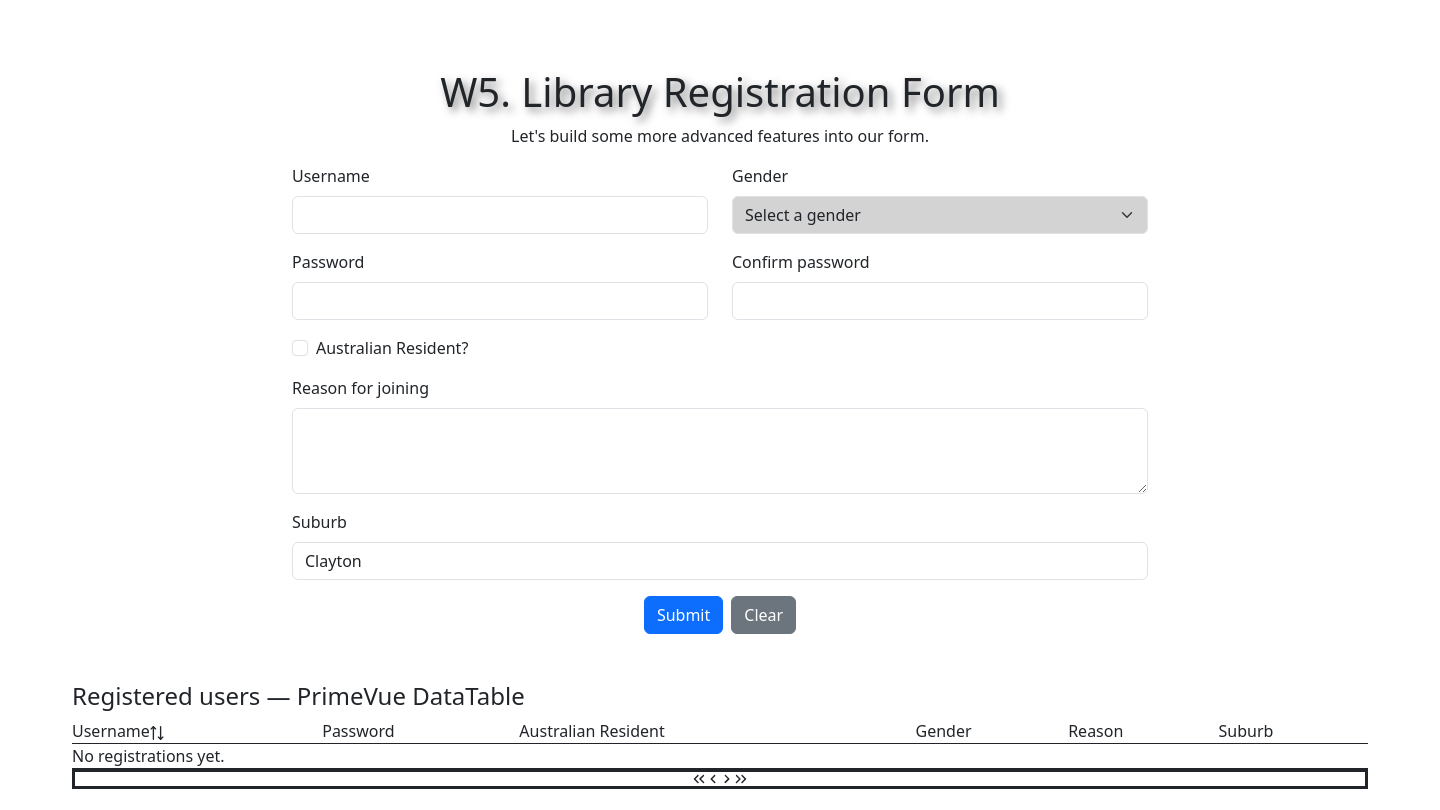
Week 5 registration behavior › adds a sanitized independent record to the table and resets form feedback
Type "Dinuo" into the field with id "username".
click(500, 215); type("Dinuo")  # box x1=292 y1=196 x2=708 y2=234
Type "Secure1!" into the password field labelled "Password".
click(500, 301); type("Secure1!")  # box x1=292 y1=282 x2=708 y2=320
Click the checkbox with id "isAustralian".
click(300, 348)  # box x1=292 y1=340 x2=308 y2=356
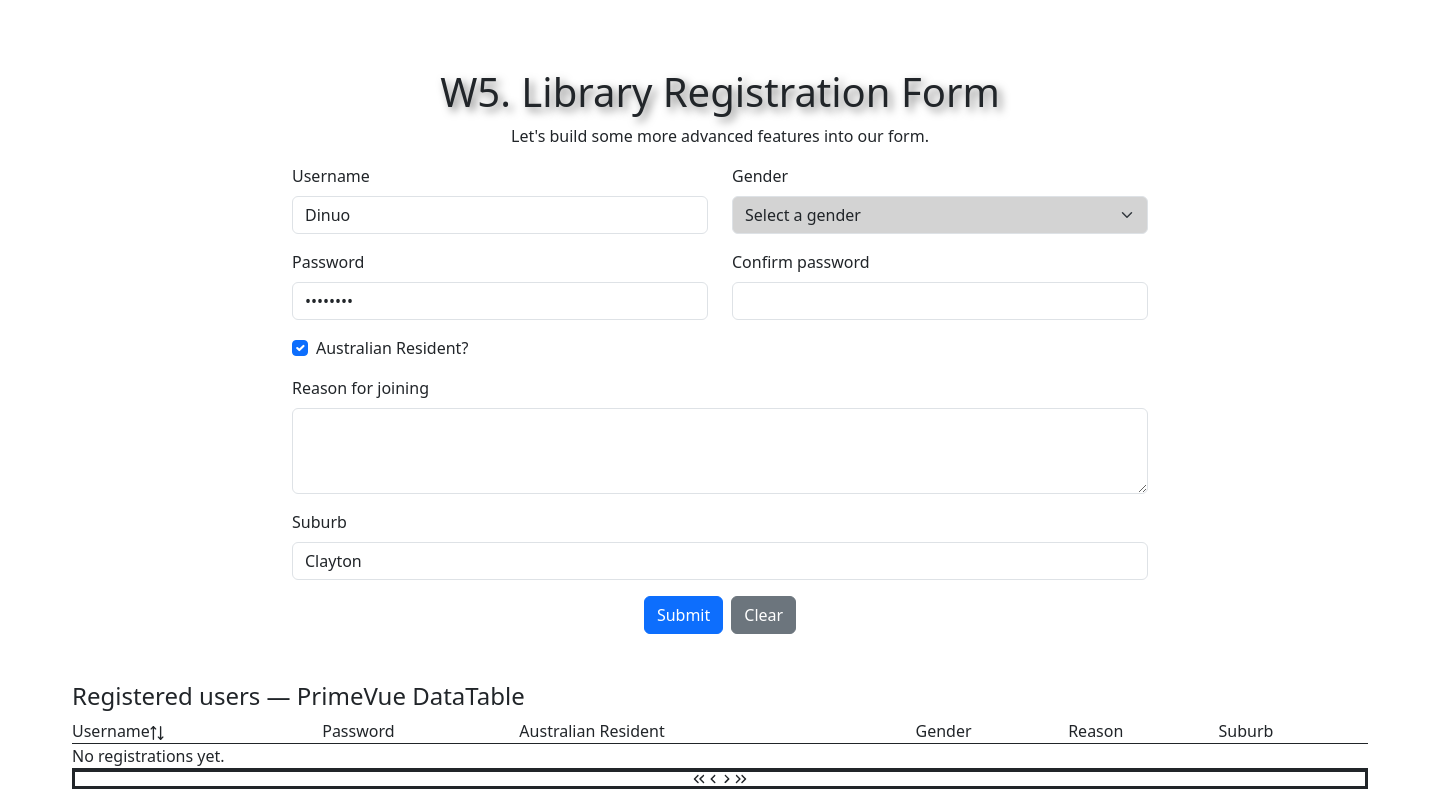
Select "Other" in the dropdown with id "gender" at (940, 215), box x1=732 y1=196 x2=1148 y2=234
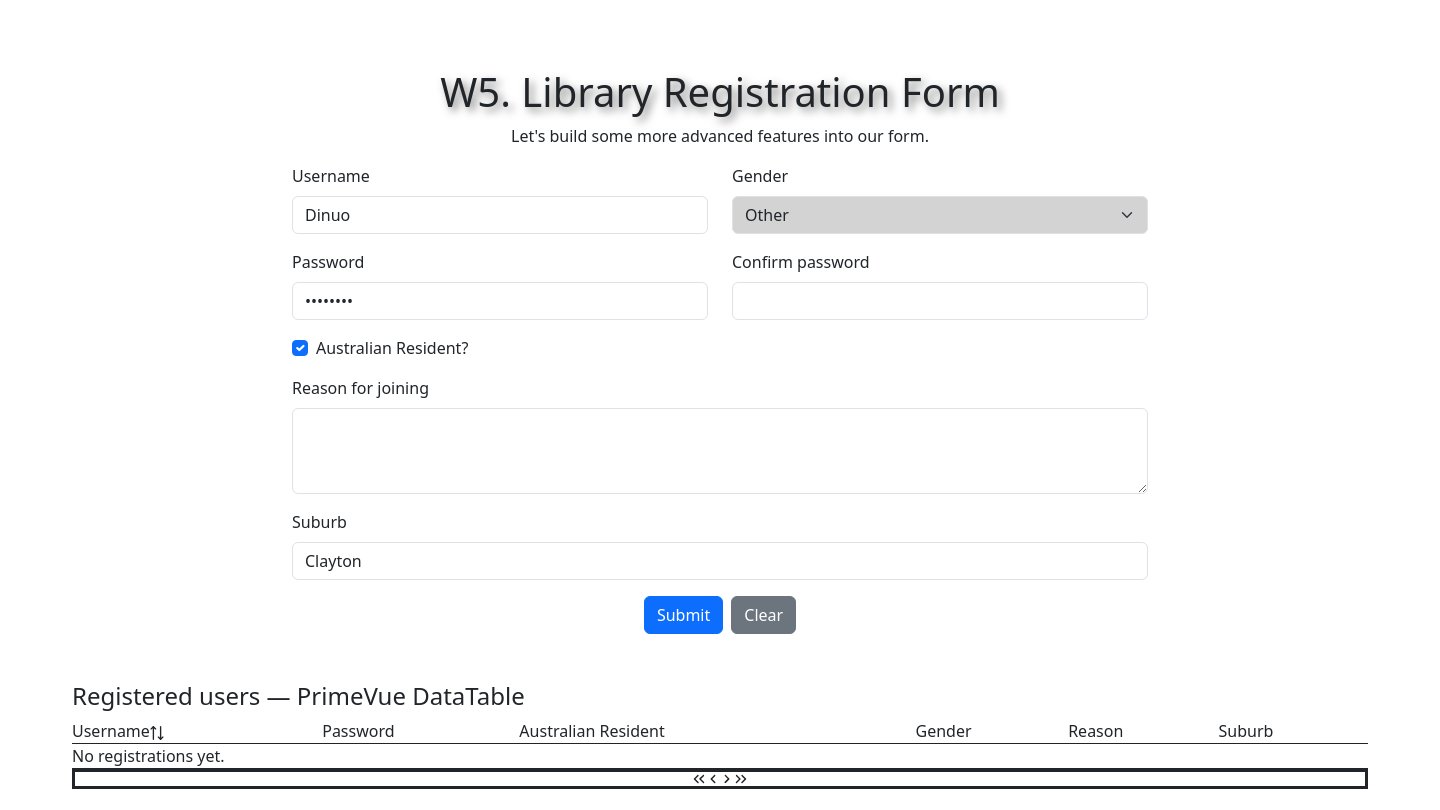
Type "I enjoy reading with a friend." into the text box with id "reason".
click(720, 451); type("I enjoy reading with a friend.")  # box x1=292 y1=408 x2=1148 y2=494
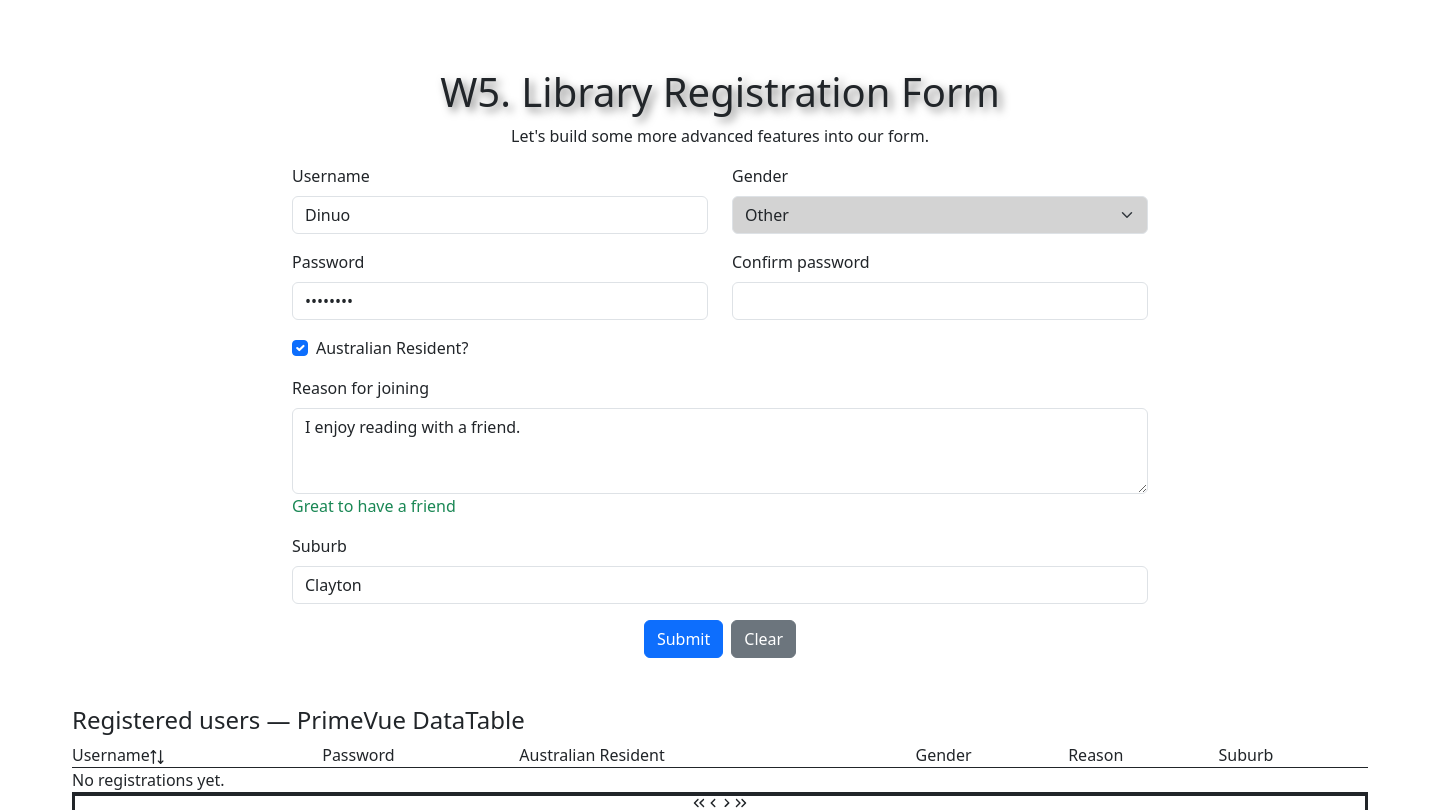
Type "Secure1!" into the password field with id "confirm-password".
click(940, 301); type("Secure1!")  # box x1=732 y1=282 x2=1148 y2=320
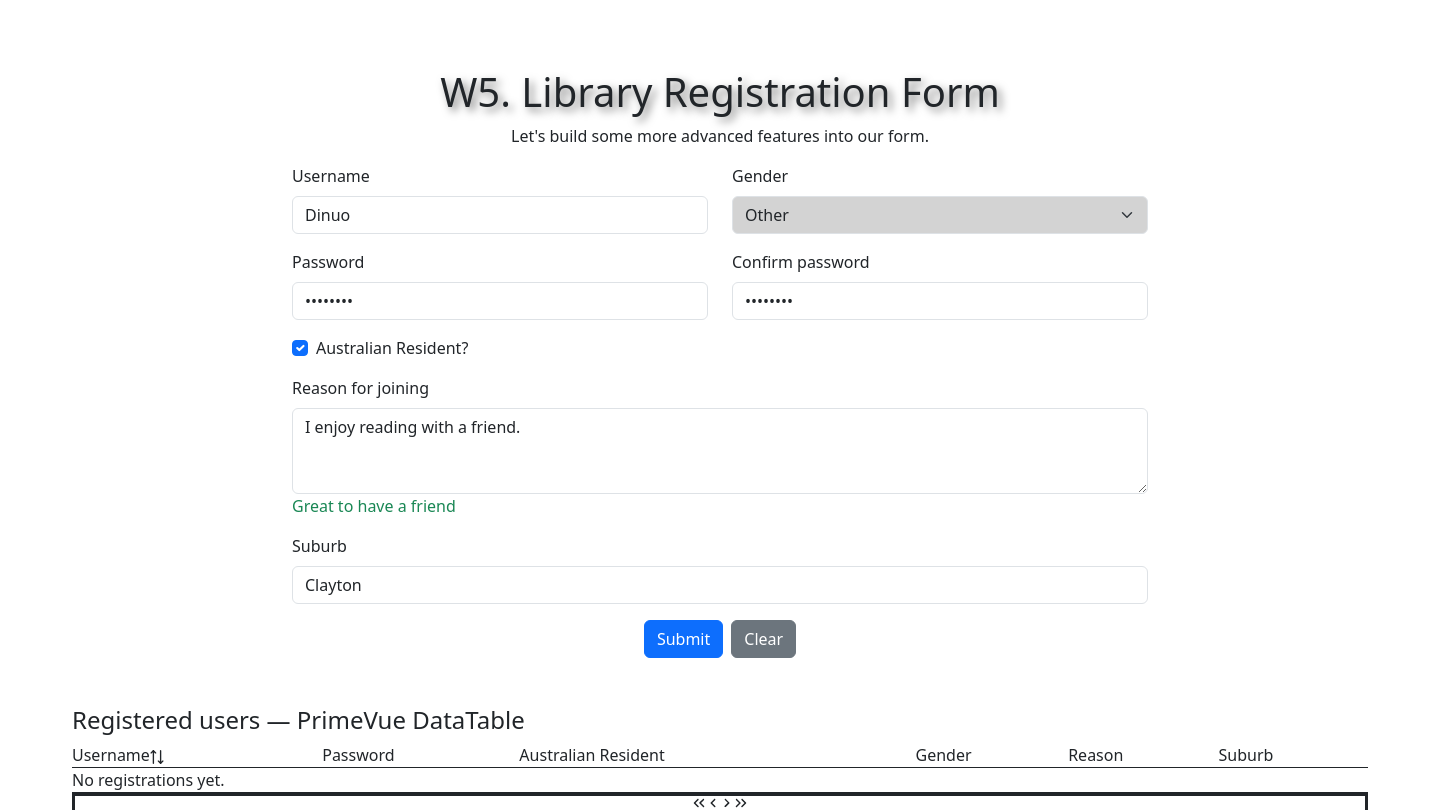
Replace the text in the field with id "suburb" with "Melbourne" at (720, 585), box x1=292 y1=566 x2=1148 y2=604
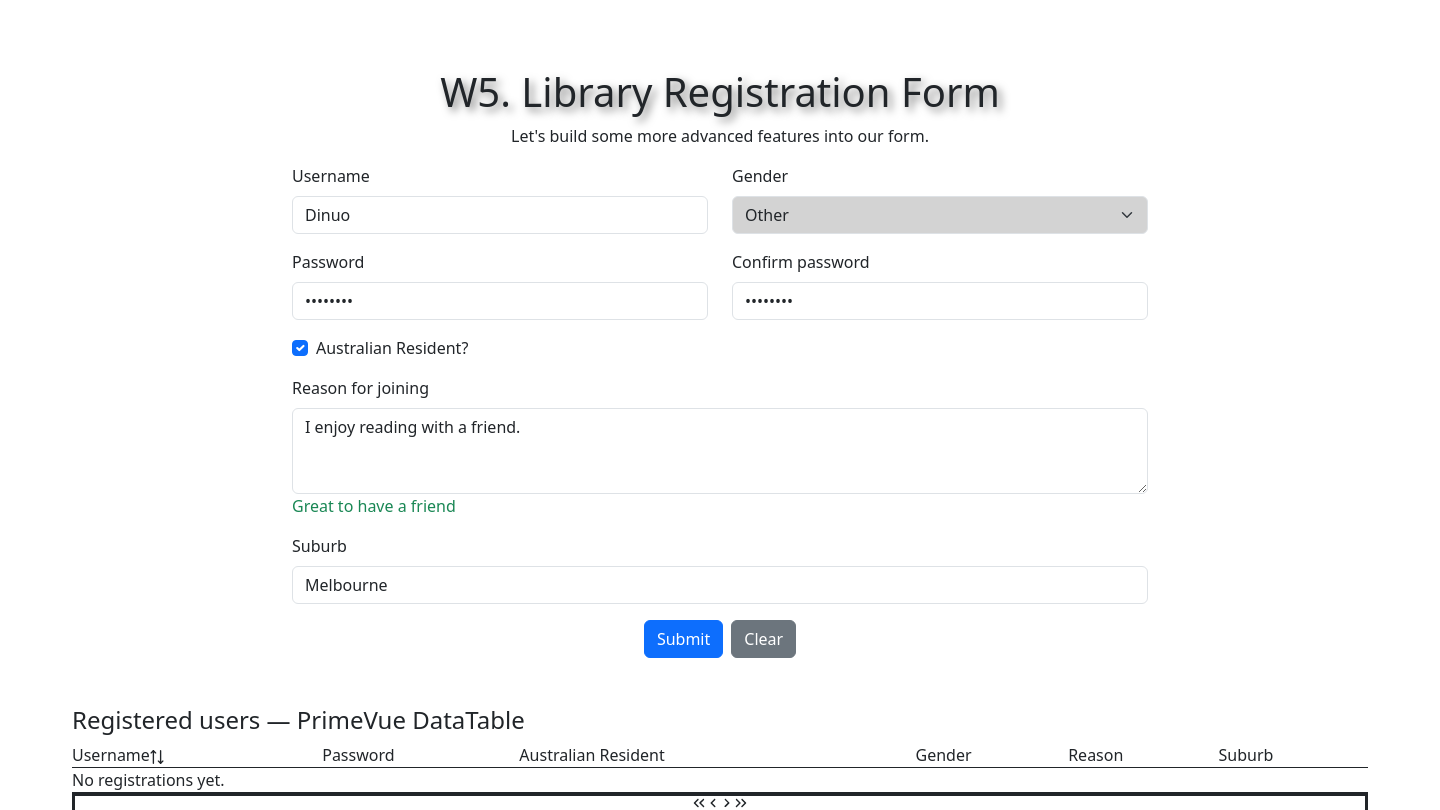
Now the text "Great to have a friend" is shown, box x1=292 y1=495 x2=456 y2=517
Submit the form, box x1=292 y1=164 x2=1148 y2=658
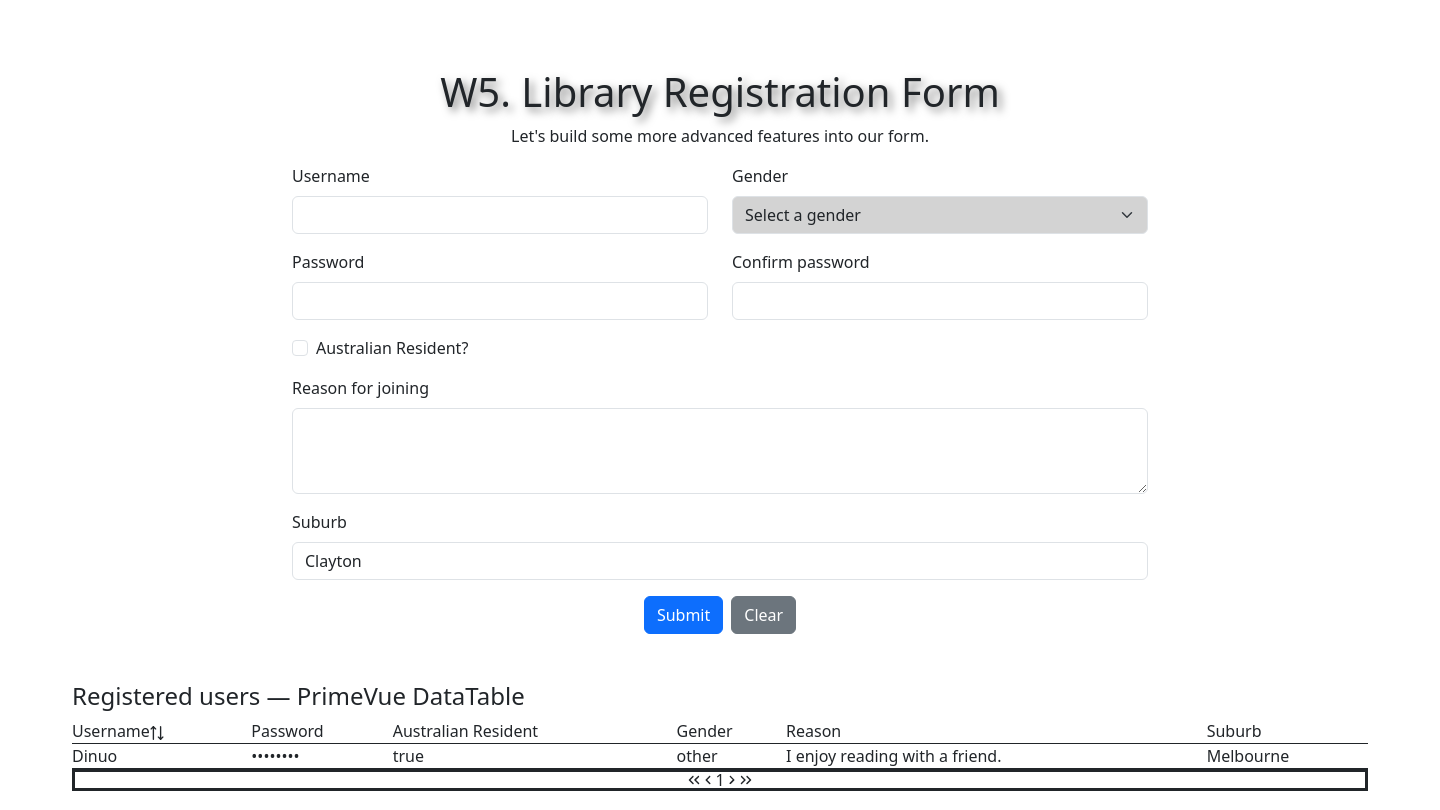
Now the table shows "Dinuo", box x1=72 y1=745 x2=117 y2=767
Now the table shows "Melbourne", box x1=1207 y1=745 x2=1289 y2=767
Now the password field with id "confirm-password" is empty, box x1=732 y1=282 x2=1148 y2=320
